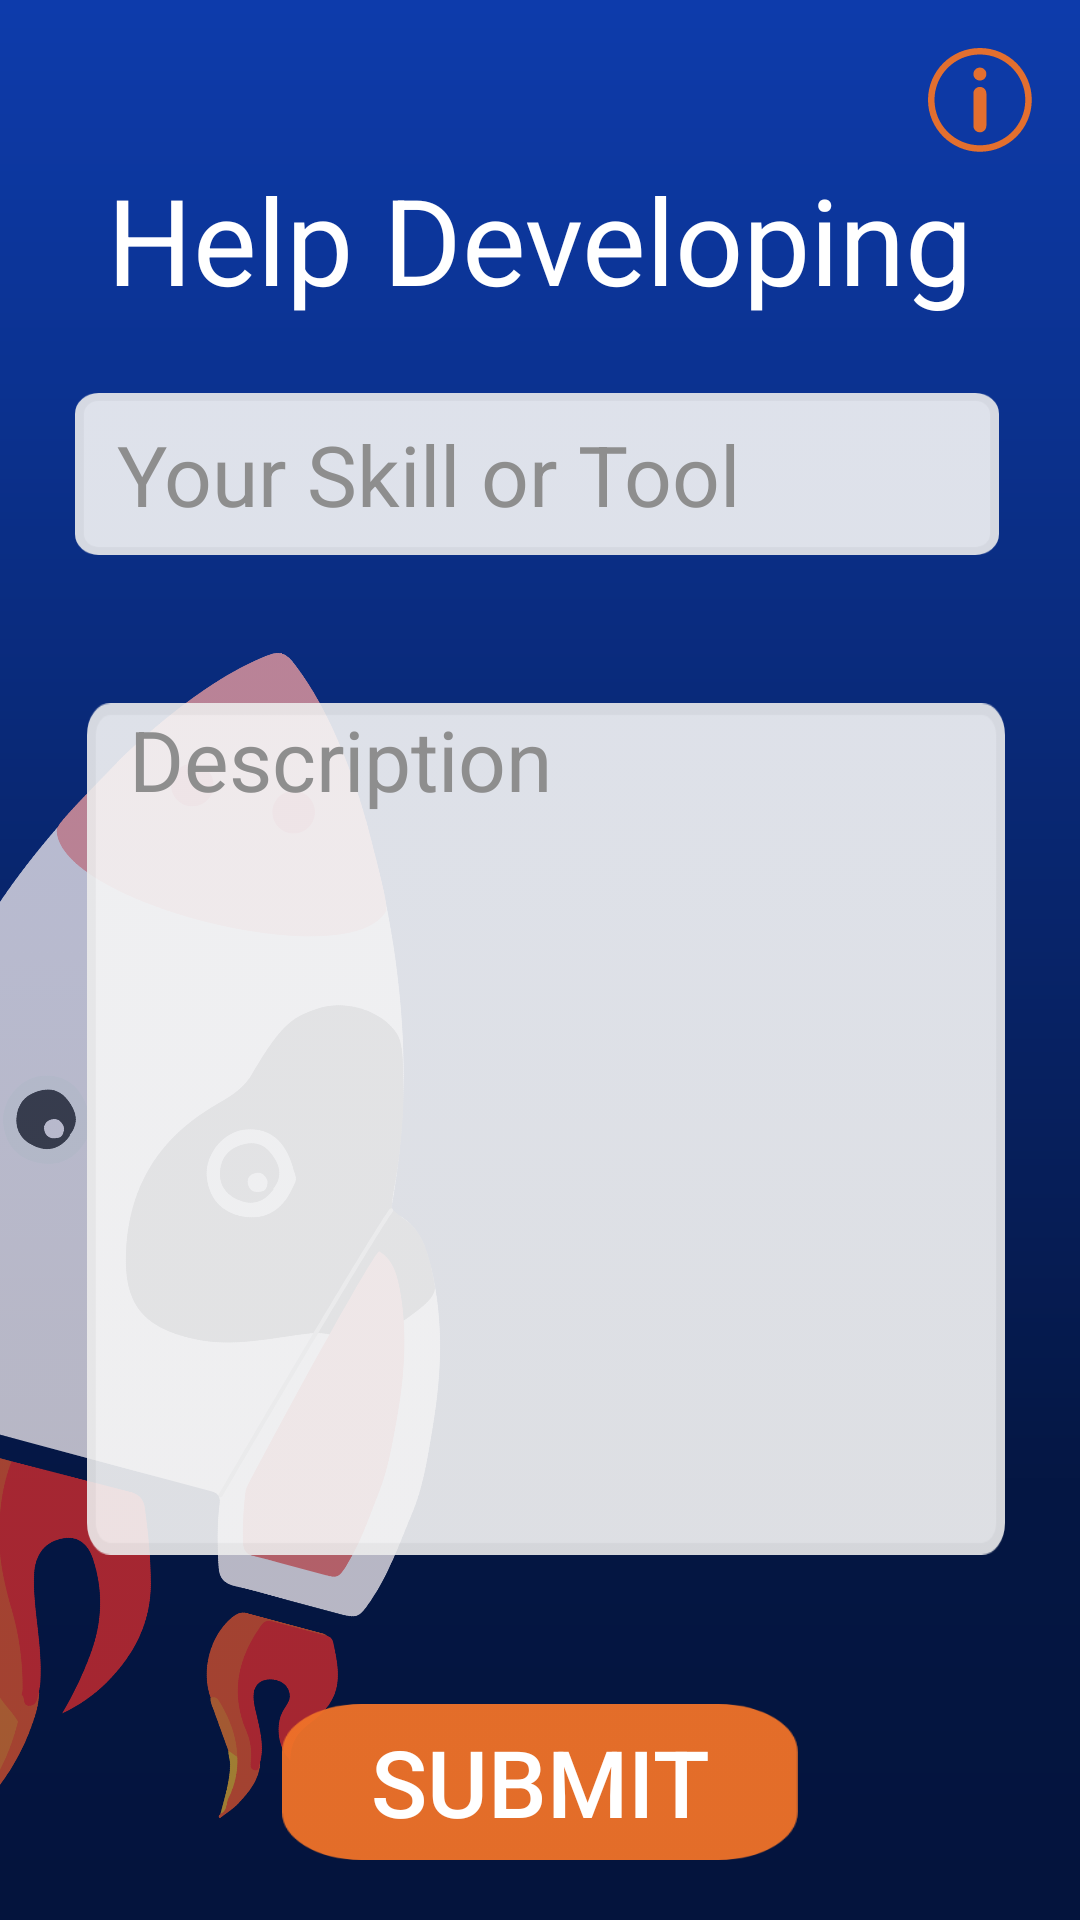

Locate icon controls on the screen. Image size 1080x1920, boxes as (x1,y1,x2,y2).
info but: (928,48,1032,152)
